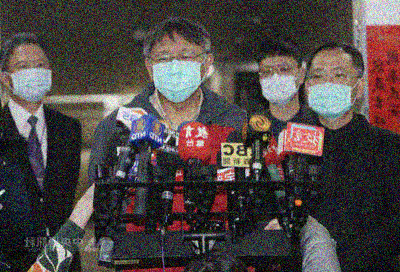with_mask: (150, 44, 204, 100), (305, 63, 356, 117), (8, 54, 49, 102), (258, 60, 298, 104)
